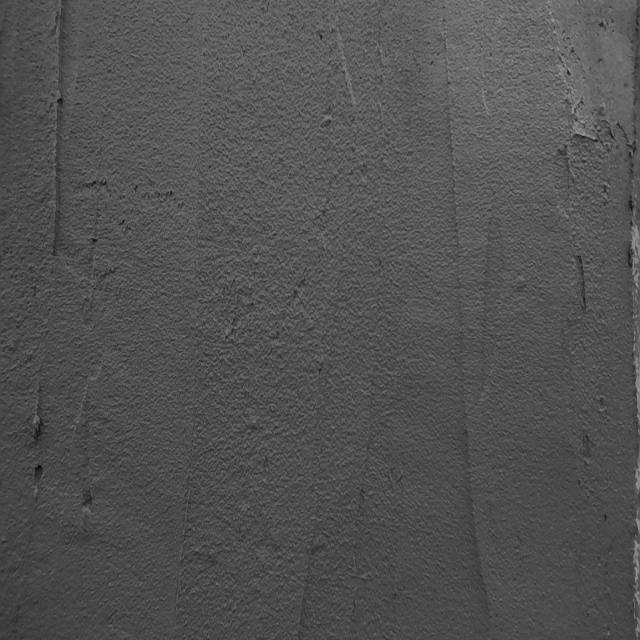trowels marks: (439, 19, 497, 632), (32, 7, 74, 274)
